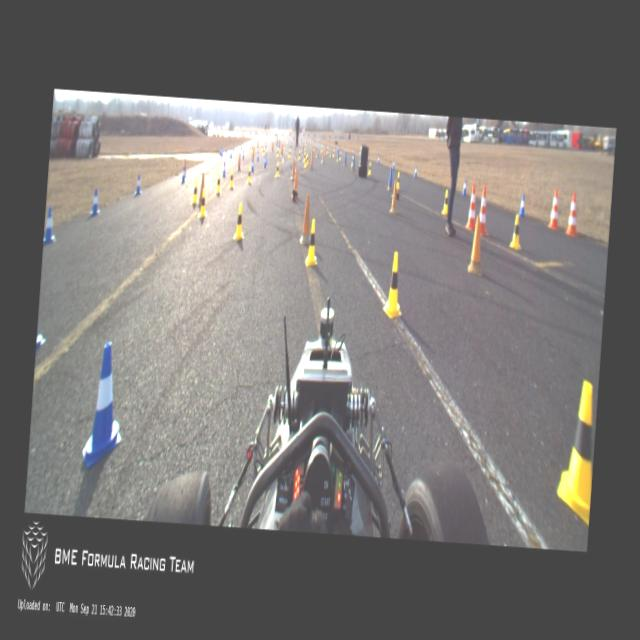blue_cone: (80, 339, 128, 469), (43, 206, 57, 245), (36, 318, 48, 350), (90, 188, 100, 215), (134, 173, 142, 195), (519, 194, 526, 217), (220, 161, 228, 177), (180, 165, 186, 183), (462, 178, 466, 194), (263, 154, 267, 168), (250, 159, 254, 172), (414, 165, 417, 178), (256, 150, 259, 162), (392, 158, 395, 170), (264, 154, 267, 166), (220, 146, 223, 156), (229, 149, 232, 158), (232, 142, 235, 150), (242, 150, 244, 160), (219, 146, 221, 156), (377, 155, 379, 164), (225, 144, 227, 152), (240, 142, 242, 150), (252, 141, 254, 149), (264, 140, 266, 148), (290, 140, 292, 148), (352, 148, 354, 154), (336, 146, 338, 152), (314, 144, 316, 150), (358, 151, 359, 158), (278, 142, 278, 146)
large_orange_cone: (475, 186, 491, 236), (564, 192, 580, 236), (465, 182, 479, 230), (548, 187, 562, 229)
unknown_cone: (466, 216, 486, 274), (300, 194, 314, 244), (389, 178, 400, 214), (291, 167, 299, 197), (198, 173, 205, 206), (386, 167, 394, 190), (308, 144, 314, 170), (290, 156, 296, 180), (342, 148, 348, 166), (237, 152, 242, 171), (183, 158, 187, 177), (321, 150, 325, 163), (270, 140, 274, 152), (352, 156, 355, 169), (280, 143, 283, 156), (275, 135, 278, 145), (330, 145, 332, 158), (316, 146, 318, 158), (337, 149, 339, 161), (256, 138, 258, 148), (324, 144, 326, 154), (301, 143, 303, 152), (310, 139, 312, 147), (294, 144, 296, 150)
yellow_cone: (555, 380, 598, 523), (382, 251, 405, 318), (304, 218, 320, 266), (508, 214, 524, 250), (232, 202, 246, 240), (198, 188, 208, 218), (190, 179, 200, 205), (442, 188, 449, 214), (215, 172, 222, 195), (245, 166, 252, 184), (394, 171, 400, 190), (228, 168, 234, 186), (274, 161, 280, 177), (368, 161, 372, 174), (304, 156, 308, 167), (303, 150, 306, 162), (260, 142, 264, 151), (305, 153, 308, 164), (351, 155, 354, 166), (338, 150, 341, 161), (276, 148, 279, 157), (320, 144, 323, 152), (298, 150, 300, 160), (262, 146, 264, 156), (288, 149, 290, 158), (332, 148, 334, 157), (326, 145, 328, 153), (304, 143, 306, 151), (282, 144, 284, 150), (250, 146, 252, 152), (253, 144, 254, 150)
